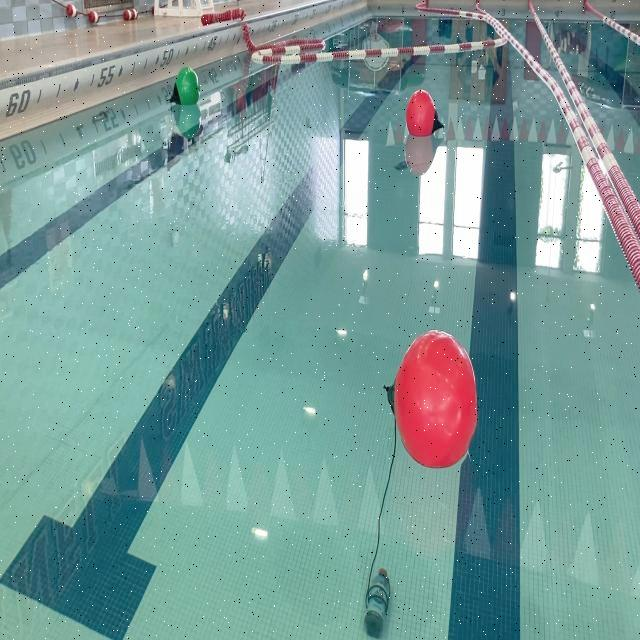buoy: (382, 326, 479, 469), (407, 90, 446, 142), (170, 68, 200, 108)
